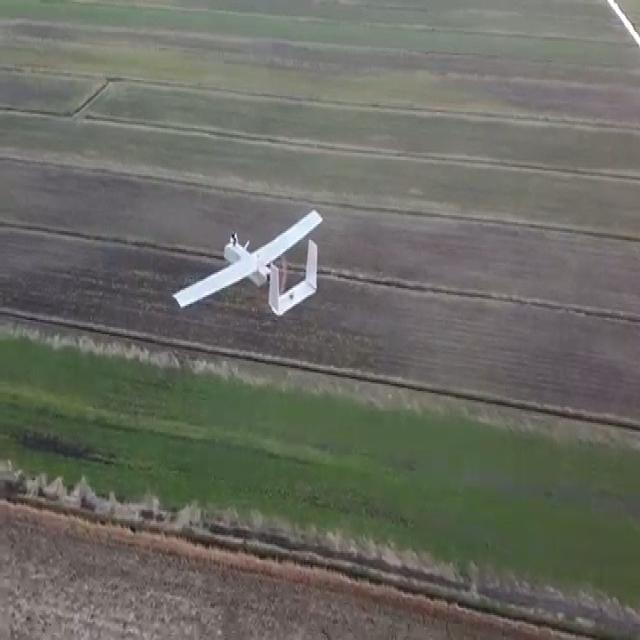drones: (168, 202, 327, 332)
